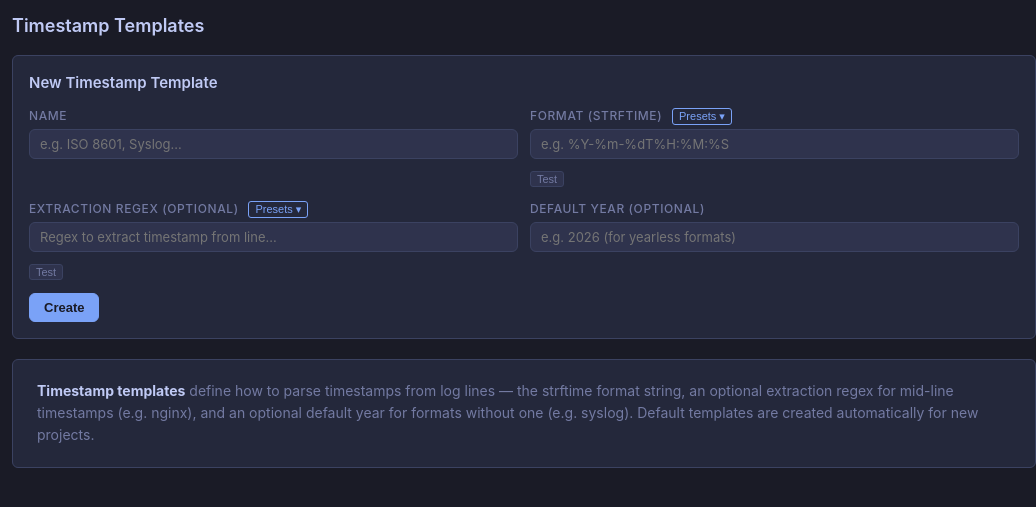
Test: TimestampTemplateManager regex validation › shows error message for invalid extraction regex
Type "[abc" into the field with placeholder "Regex to extract timestamp from line..." at (274, 236), box [29, 222, 518, 252]
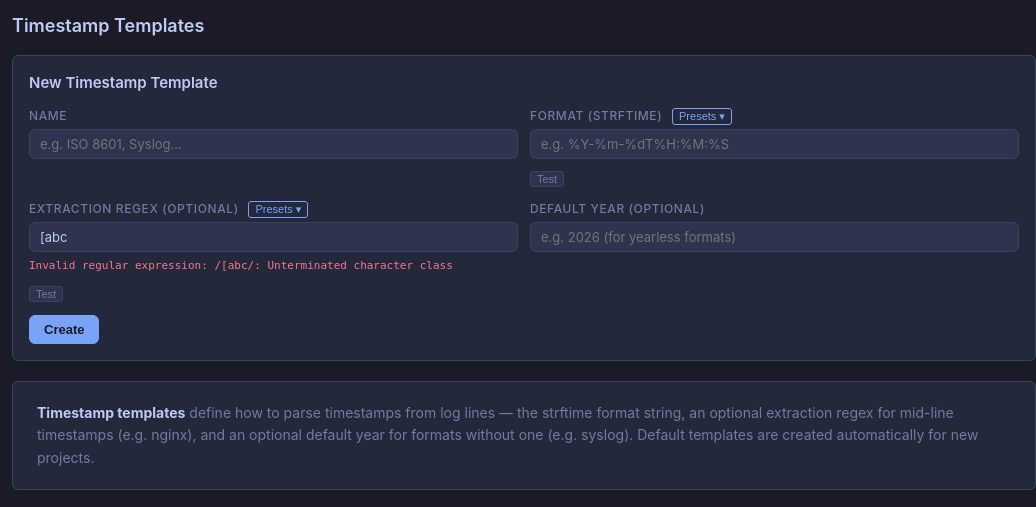
Expected: the text with class "field-error" is shown, [29, 258, 518, 274]
Expected: the text with class "field-error" shows "Invalid regular expression", [29, 258, 453, 272]
